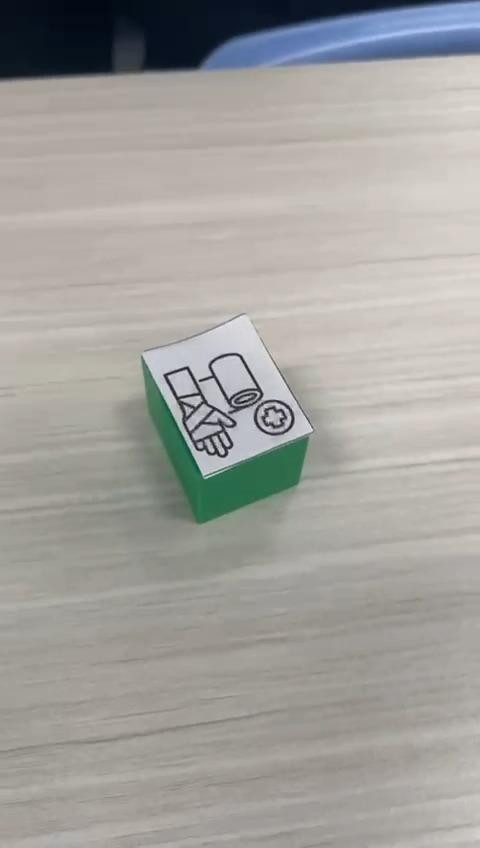Bandages: (142, 314, 314, 524)
